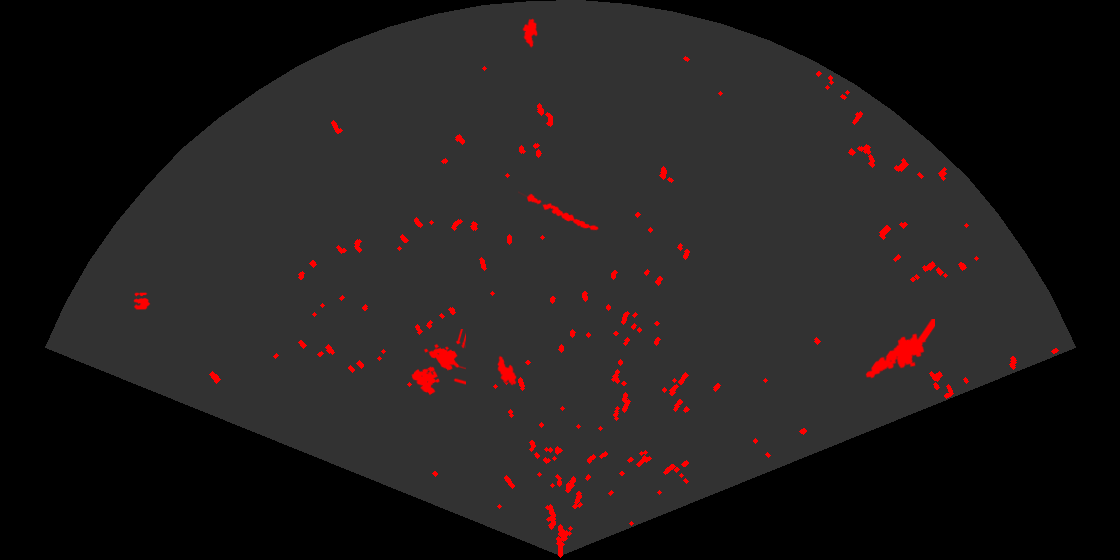AUV: (496, 354, 518, 387), (521, 17, 539, 49)
ball: (132, 291, 152, 310)
cage: (410, 329, 466, 397)
chain: (518, 190, 600, 232)
frogman: (864, 319, 935, 380)
